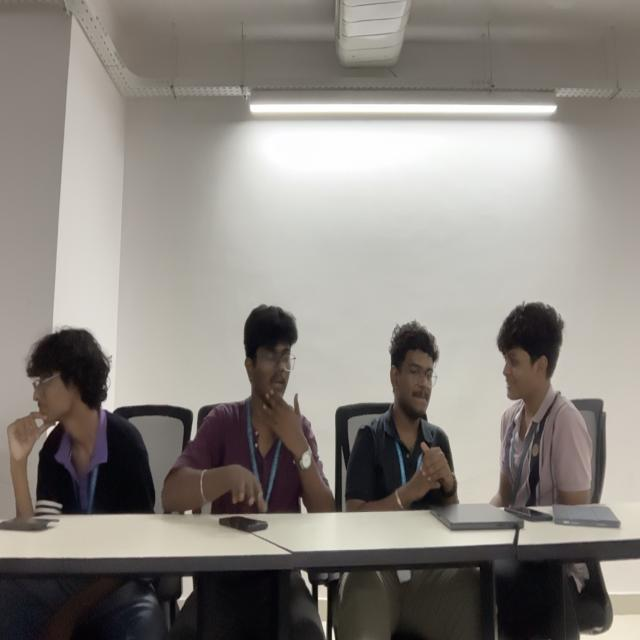Isolated: (6, 325, 156, 515)
socializing: (160, 303, 593, 510)
